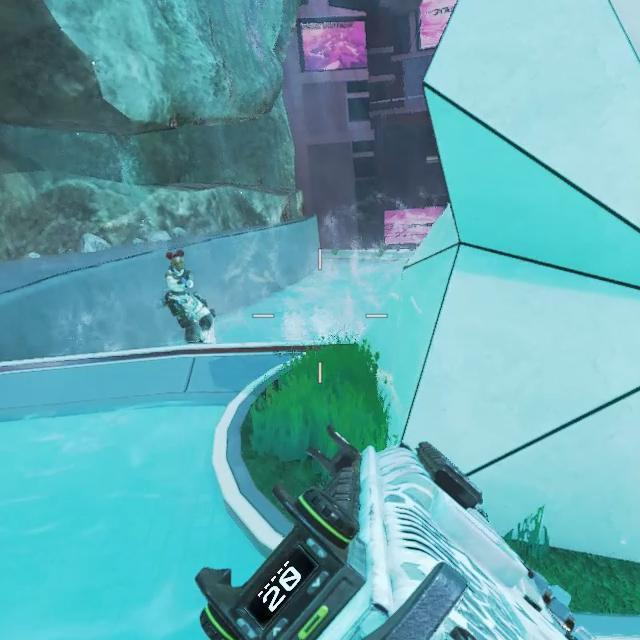avatar: (159, 246, 218, 345)
